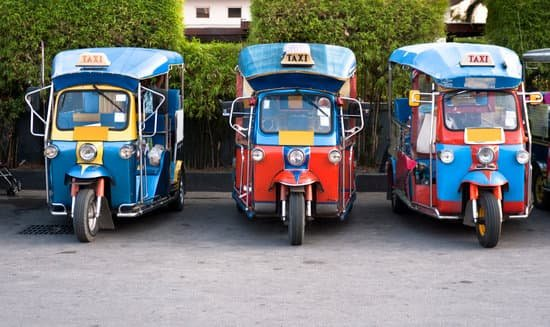threewheel: (385, 43, 534, 249), (43, 46, 187, 243), (231, 42, 362, 245)
